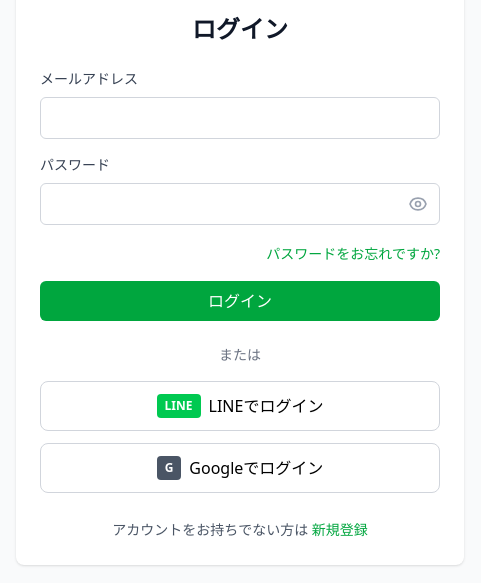
Test case: Login › ローディング中はボタンが無効化される
//  フォームに入力
Type "test@example.com" into the field labelled "メールアドレス".
click(240, 118); type("test@example.com")  # box 40,97 -> 440,139
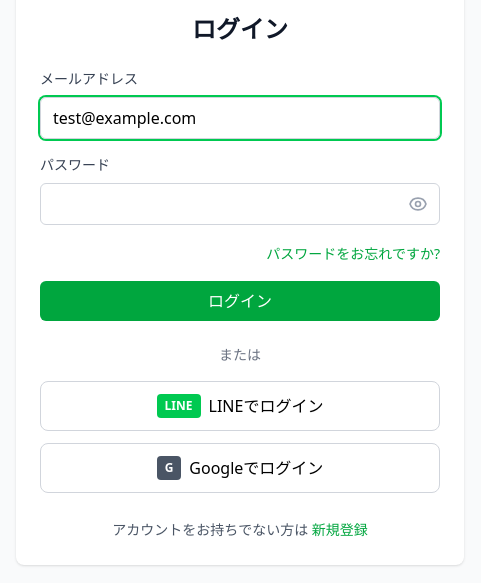
Type "password123" into the password field labelled "パスワード".
click(240, 204); type("password123")  # box 40,183 -> 440,225
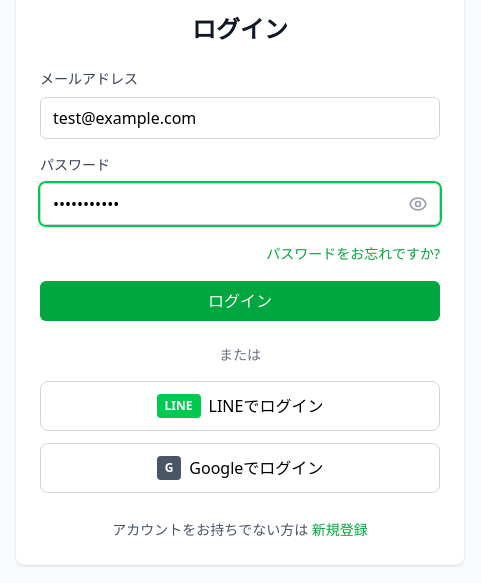
// ログインボタンをクリック
Click the button "ログイン".
click(240, 301)  # box 40,281 -> 440,321
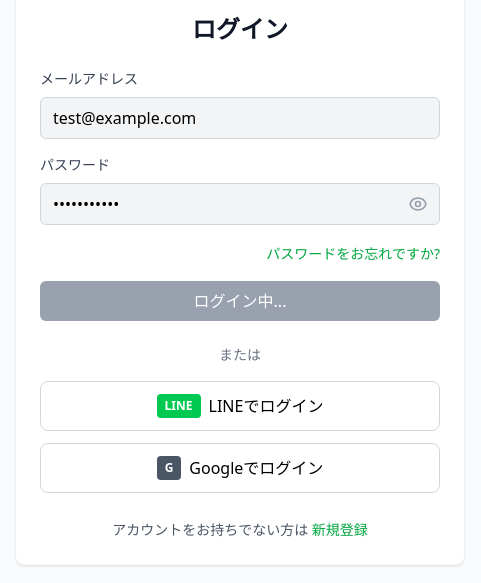
Expected: the button "ログイン中..." is disabled, 40,281 -> 440,321
